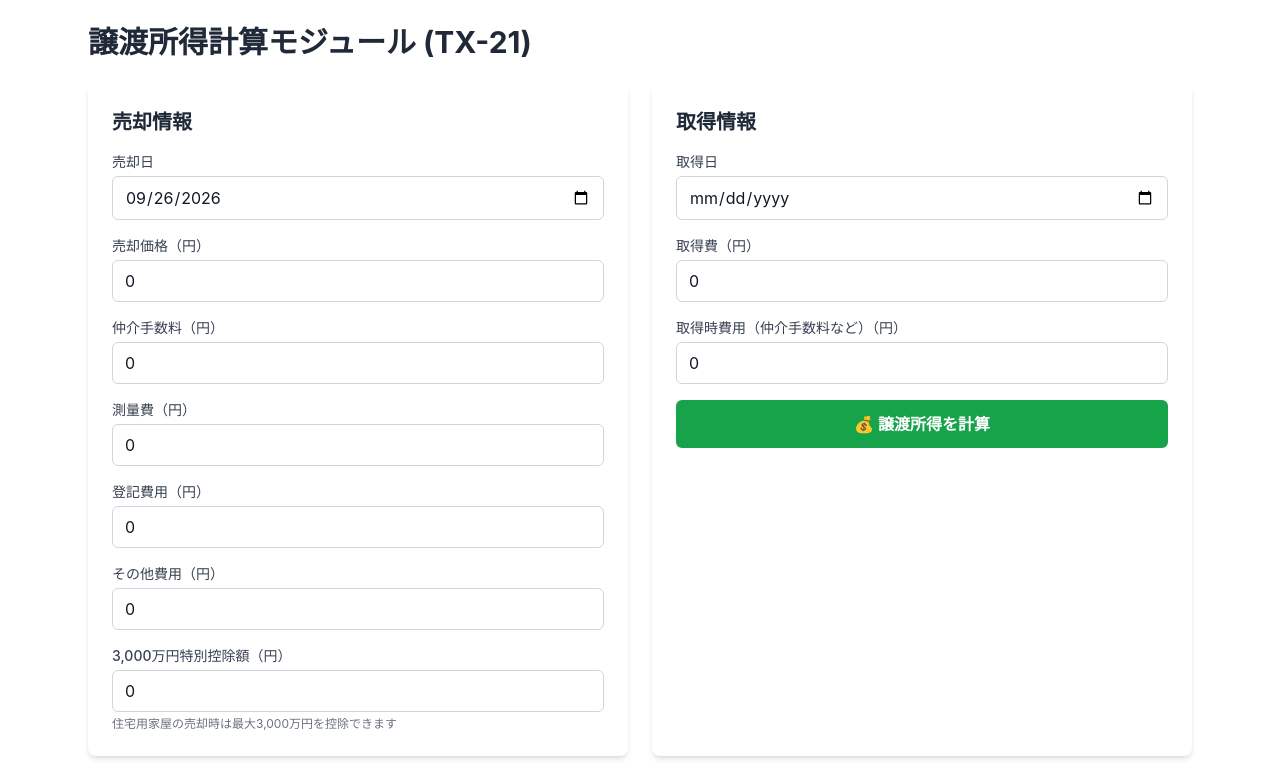
Test case: TX-56: 譲渡所得モジュール - 複数物件対応検証 › 譲渡所得計算 › 3000万円控除が結果に正しく反映される
Click the button "💰 譲渡所得を計算" at {"x": 922, "y": 424}, box [676,400,1168,448]
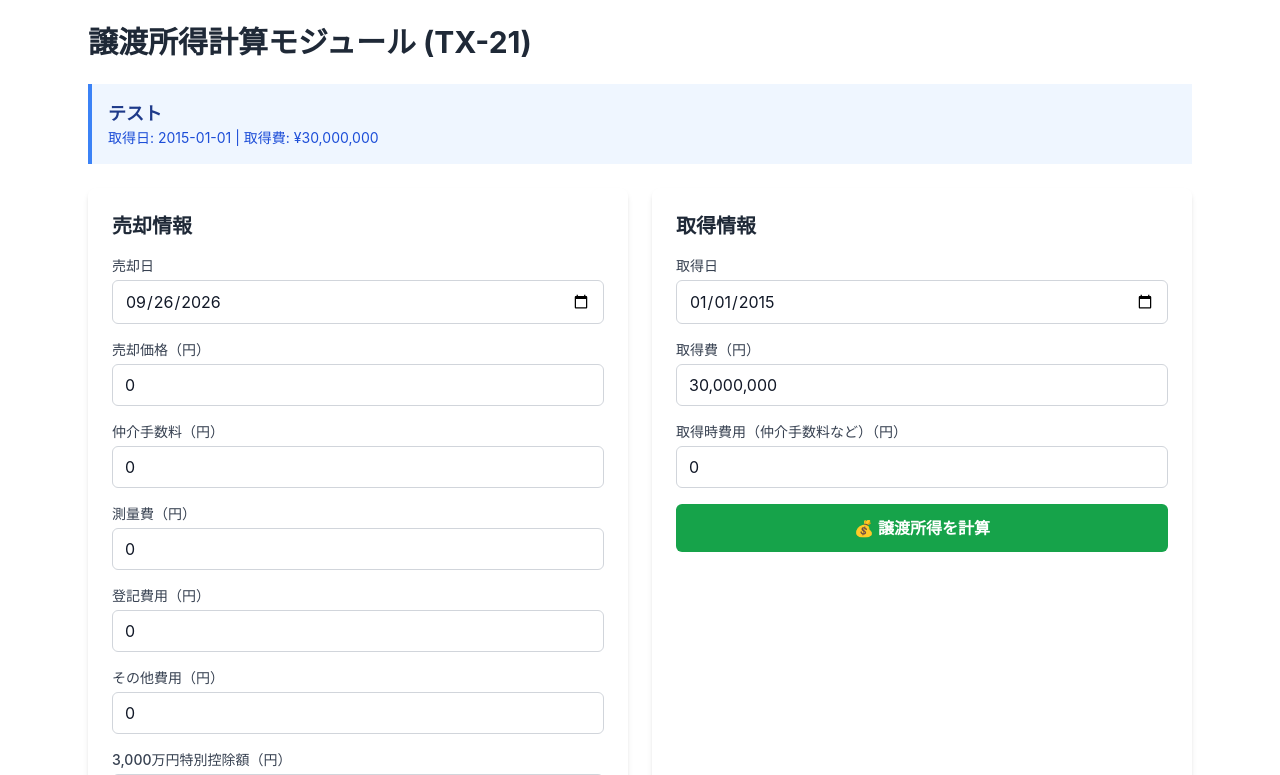
Check: the text "3,000万円特別控除額（円）" is shown, box [112,751,292,768]
Check: the text "取得日: 2015-01-01 | 取得費: ¥30,000,000" is shown, box [108,129,379,146]
